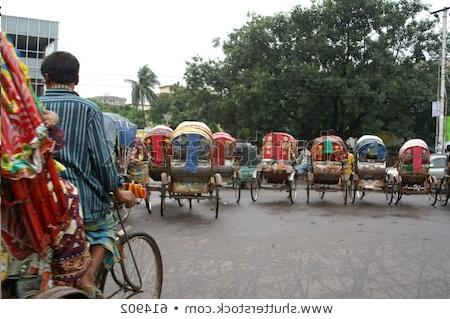Rickshaw: (1, 33, 168, 304), (162, 114, 220, 217), (253, 129, 300, 207), (352, 130, 397, 205), (396, 132, 439, 205), (309, 129, 347, 208), (213, 127, 246, 199)
